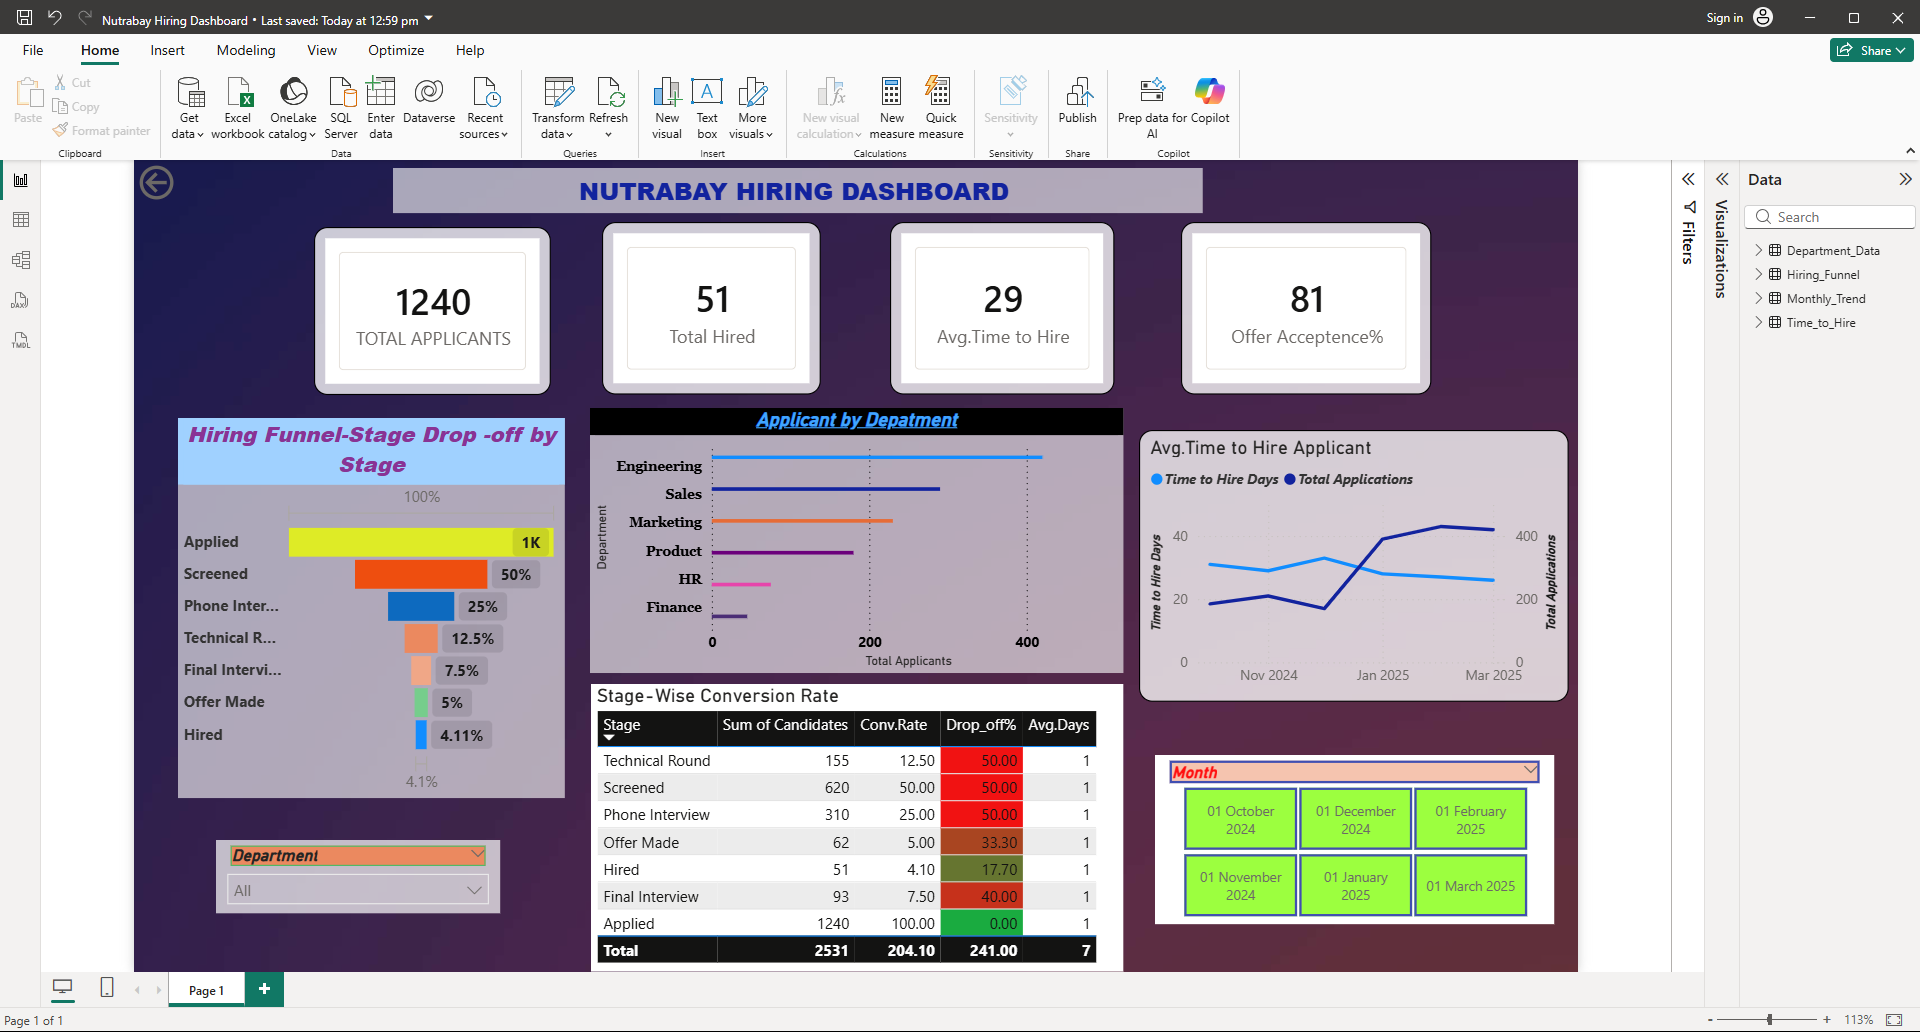

The dashboard page shown, as its layout file describes it:
{"tool":"powerbi","page":{"name":"Page 1","canvas":[1280,720],"ordinal":0},"visuals":[{"type":"cardVisual","title":"Total Applicants","fields":{"Data":["Sum(Hiring_Funnel.Candidates)"]},"box":[160,59,210,149],"z":0},{"type":"cardVisual","title":"Avg. Time to Hire","fields":{"Data":["Avg(Monthly_Trend.Avg_Time_to_Hire_Days)"]},"box":[670,55,199,153],"z":1000},{"type":"cardVisual","title":"Total Hired","fields":{"Data":["Sum(Hiring_Funnel.Candidates)"]},"box":[415,55,194,153],"z":2000},{"type":"cardVisual","title":"Offer Acceptance %","fields":{"Data":["Avg(Monthly_Trend.Offer_Acceptance_%)"]},"box":[928,55,222,153],"z":3000},{"type":"textbox","box":[229.4,7,718.5,40.3],"z":4000},{"type":"funnel","fields":{"Category":["Hiring_Funnel.Stage"],"Y":["Sum(Hiring_Funnel.Candidates)"]},"box":[39,229,343,337],"z":5000},{"type":"clusteredBarChart","title":"Applicant by Depatment ","fields":{"Category":["Department_Data.Department"],"Y":["Sum(Department_Data.Total_Applicants)"],"Series":["Department_Data.Department"]},"box":[404,220,473,235],"z":6000},{"type":"tableEx","title":"Stage-Wise Conversion Rate","fields":{"Values":["Hiring_Funnel.Stage","Sum(Hiring_Funnel.Candidates)","Sum(Hiring_Funnel.Conversion_%)","Sum(Hiring_Funnel.Drop_off_%)","Count(Hiring_Funnel.Avg_Days_in_Stage)"]},"box":[405,465,472,255],"z":7000},{"type":"actionButton","box":[0,0,100,40],"z":8000},{"type":"slicer","title":"FILTER BY DEPARTMENT","fields":{"Values":["Department_Data.Department"]},"box":[73,603,252,65],"z":9000},{"type":"slicer","fields":{"Values":["Monthly_Trend.Month"]},"box":[905,528,354,150],"z":10000},{"type":"lineChart","title":"Avg.Time to Hire Applicant","fields":{"Category":["Monthly_Trend.Month"],"Y":["Sum(Monthly_Trend.Avg_Time_to_Hire_Days)"],"Y2":["Sum(Monthly_Trend.Total_Applications)"]},"box":[891,239,381,241],"z":11000}]}

Visuals, with their boxes on the page's 1280x720 design canvas (x1, y1, x2, y2). These are canvas units, not pixel positions in the 1920x1032 screenshot, which may show the page scaled, cropped or inside an application window:
"Total Applicants" cardVisual: <box>160,59,370,208</box>
"Avg. Time to Hire" cardVisual: <box>670,55,869,208</box>
"Total Hired" cardVisual: <box>415,55,609,208</box>
"Offer Acceptance %" cardVisual: <box>928,55,1150,208</box>
textbox: <box>229,7,948,47</box>
funnel - Hiring_Funnel.Stage x Sum(Hiring_Funnel.Candidates): <box>39,229,382,566</box>
"Applicant by Depatment " clusteredBarChart: <box>404,220,877,455</box>
"Stage-Wise Conversion Rate" tableEx: <box>405,465,877,720</box>
actionButton: <box>0,0,100,40</box>
"FILTER BY DEPARTMENT" slicer: <box>73,603,325,668</box>
slicer - Monthly_Trend.Month: <box>905,528,1259,678</box>
"Avg.Time to Hire Applicant" lineChart: <box>891,239,1272,480</box>
